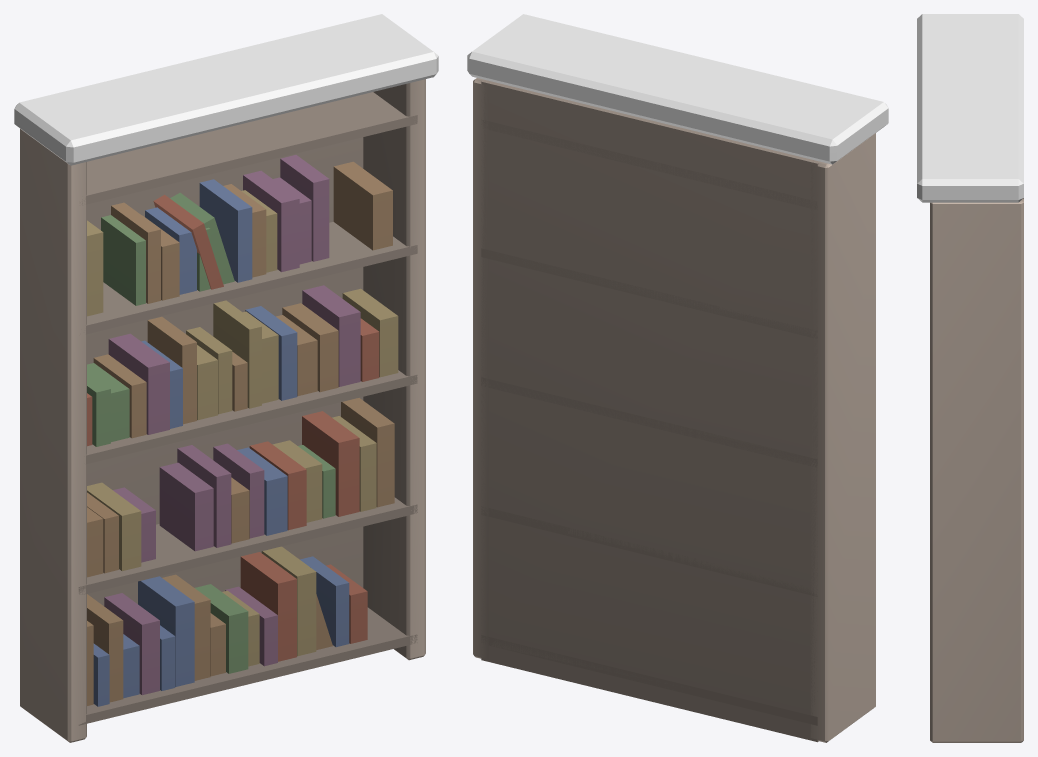
File: bookshelf_w.glb
3 renders of one model, left to right at view 1: azimuth 30°, elevation 25°; view 2: azimuth 150°, elevation 25°; view 3: azimuth 270°, elevation 25°, orthographic. The views are drawn at different scales.
Visible parts, largest first — view 1: book; view 2: book; view 3: book.
Part boxes in pixels (x1=…): book: x1=14, y1=14, x2=438, y2=742; book: x1=467, y1=14, x2=888, y2=742; book: x1=917, y1=14, x2=1023, y2=742.
Size of the model in its own units: 1.54 by 2.4 by 0.41.
